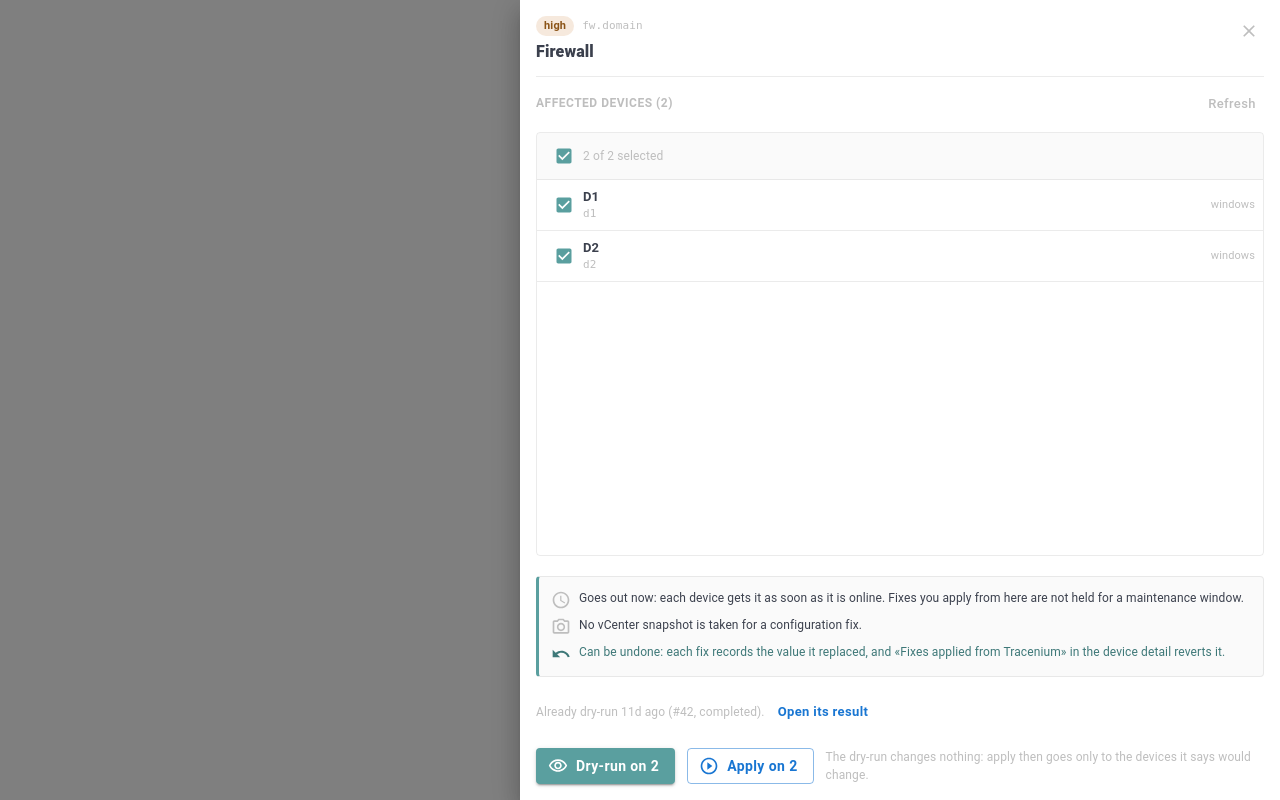
Test case: simular, luego aplicar › ⭐ una simulación ya hecha se reabre, no se repite
Expected: the element with test id "last-dry-run" shows "#42", [536,697,873,728]
Click the button "Open its result".
click(823, 712)  # box [773,697,873,728]
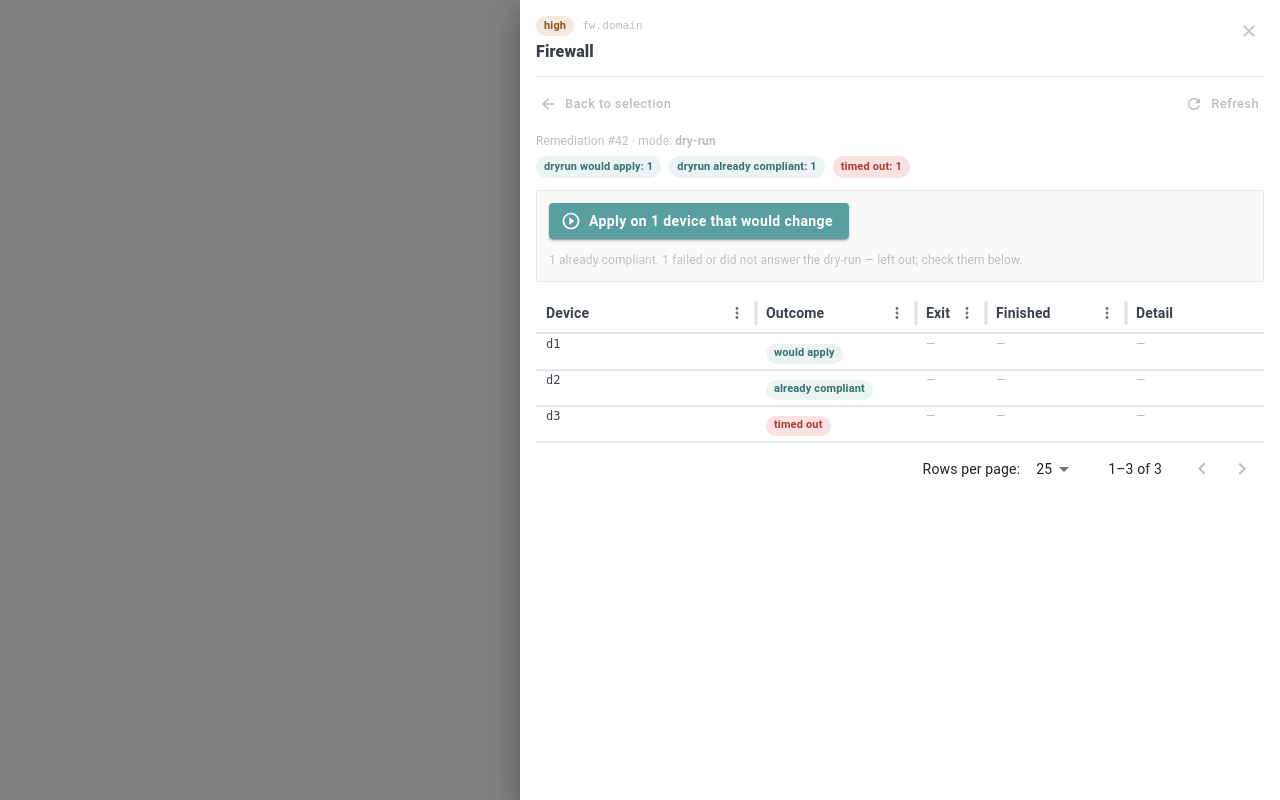
Expected: the button "Apply on 1 device that would change" is enabled, [549,203,849,239]
